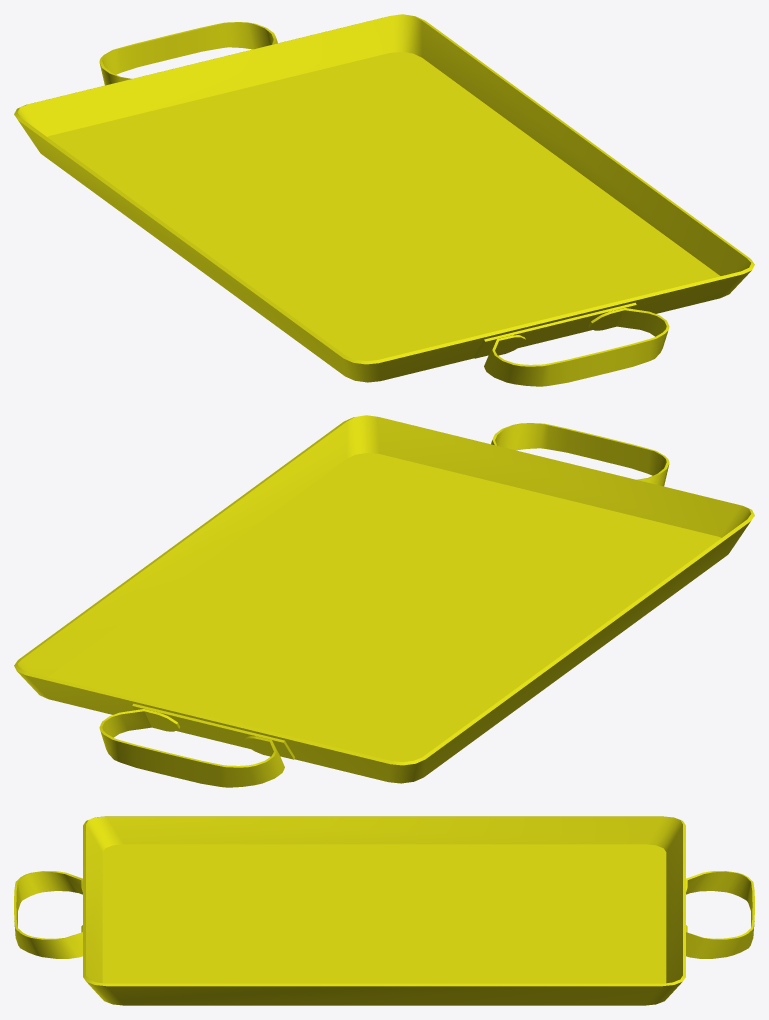
File: plate3.fbx
3 renders of one model, top to bottom at view 1: azimuth 30°, elevation 25°; view 2: azimuth 150°, elevation 25°; view 3: azimuth 270°, elevation 25°, orthographic. The views are drawn at different scales.
Visible parts, largest first — view 1: Plane_Plate_0; view 2: Plane_Plate_0; view 3: Plane_Plate_0.
Part boxes in pixels (box(x1,y1,x2,y2)): Plane_Plate_0: box(14, 14, 754, 386); Plane_Plate_0: box(14, 415, 754, 787); Plane_Plate_0: box(14, 816, 754, 1005).
Size of the model in its own units: 108 by 7.76 by 199.
